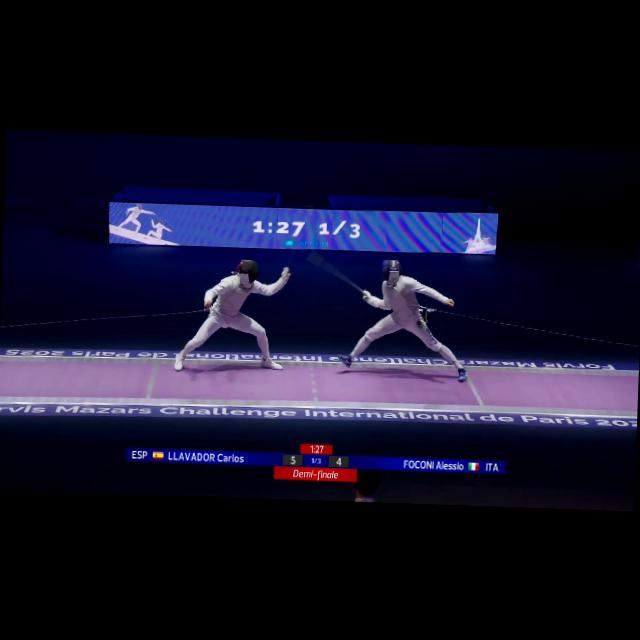blade: (304, 253, 374, 298)
